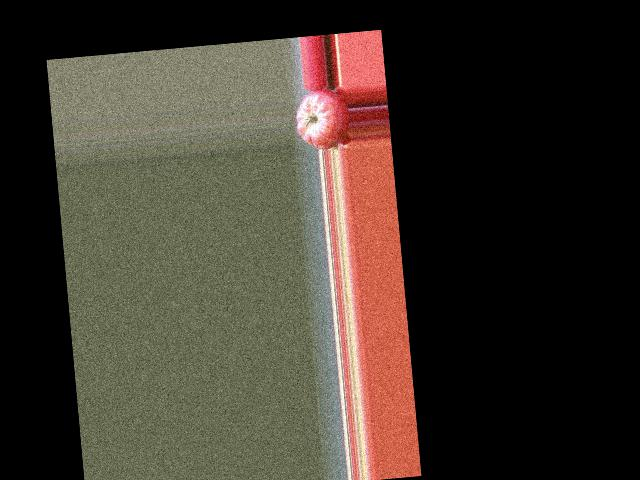tomato: (294, 87, 352, 152)
